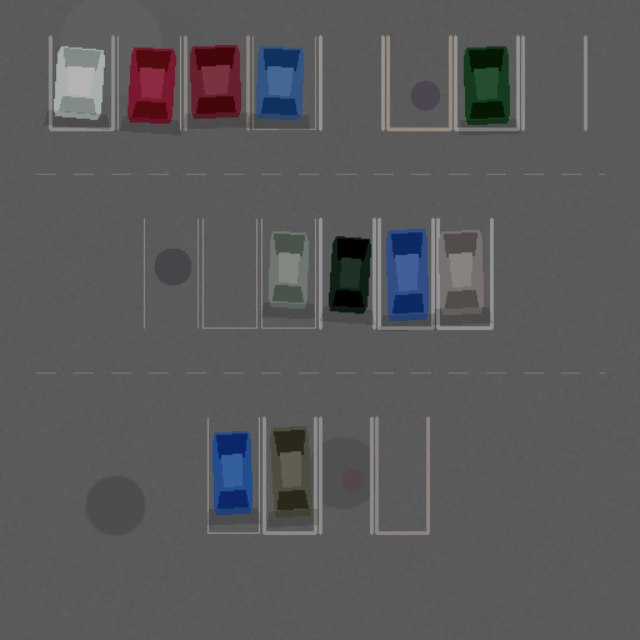space-empty: (376, 418, 428, 533), (144, 219, 198, 328), (202, 219, 256, 328), (320, 418, 371, 533), (522, 36, 585, 129), (320, 36, 382, 129), (388, 36, 450, 129)
space-occupied: (261, 219, 315, 328), (320, 219, 374, 328), (208, 418, 259, 533), (264, 418, 315, 533), (185, 36, 248, 129), (252, 36, 315, 129), (455, 36, 518, 129), (379, 219, 432, 328), (438, 219, 491, 328), (50, 36, 112, 129), (118, 36, 180, 129)
